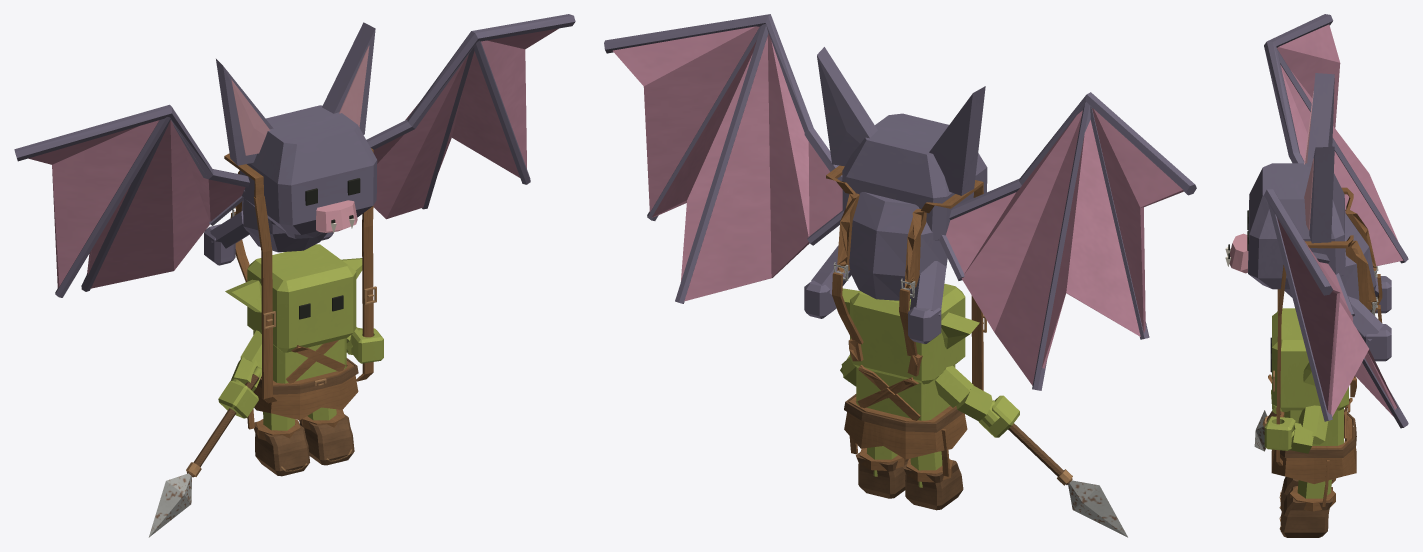
File: host_05.glb
3 views of the same model, side by side, from view 1: azimuth 30°, elevation 25°; view 2: azimuth 150°, elevation 25°; view 3: azimuth 270°, elevation 25° (orthographic). The views are drawn at different scales.
Visible parts, largest first — view 1: Bat — one native connected skull, jaw, neck, hind limbs and , Goblin — connected full head, body, two arms, compact palms , Goblin source ragged brown loincloth around hips, Goblin right single compact boot with joined broad collar, Carrier right actual leather suspension, Goblin left single compact boot with joined broad collar, Carrier left actual leather suspension, Goblin attached broad diamond spear point, Bat right pink inner ear, Bat left pink inner ear, Goblin source thin fitted brown waist belt, Goblin long brown downward spear shaft; view 2: Bat — one native connected skull, jaw, neck, hind limbs and , Goblin — connected full head, body, two arms, compact palms , Goblin source ragged brown loincloth around hips, Goblin right single compact boot with joined broad collar, Goblin left single compact boot with joined broad collar, Goblin attached broad diamond spear point, Goblin source thin fitted brown waist belt, Carrier right fitted dorsal leather continuation, Carrier left actual continuous rear scout attachment, Carrier right actual leather suspension, Carrier left fitted dorsal leather continuation, Carrier right actual continuous rear scout attachment (+1 smaller); view 3: Bat — one native connected skull, jaw, neck, hind limbs and , Goblin — connected full head, body, two arms, compact palms , Goblin source ragged brown loincloth around hips, Goblin left single compact boot with joined broad collar, Carrier left fitted dorsal leather continuation, Carrier left actual leather suspension, Goblin source thin fitted brown waist belt, Carrier right fitted dorsal leather continuation, Bat left pink inner ear, Carrier left source return above native wing root, Goblin attached broad diamond spear point, Goblin right single compact boot with joined broad collar.
Boxes of the visible parts, x1,y1,x2,y2 form: Bat — one native connected skull, jaw, neck, hind limbs and : (14, 14, 575, 297); Goblin — connected full head, body, two arms, compact palms : (218, 244, 383, 430); Goblin source ragged brown loincloth around hips: (253, 360, 358, 420); Goblin right single compact boot with joined broad collar: (254, 419, 309, 476); Carrier right actual leather suspension: (253, 196, 276, 403); Goblin left single compact boot with joined broad collar: (299, 409, 354, 465); Carrier left actual leather suspension: (355, 205, 373, 381); Goblin attached broad diamond spear point: (148, 473, 191, 537); Bat right pink inner ear: (231, 79, 270, 155); Bat left pink inner ear: (339, 45, 369, 127); Goblin source thin fitted brown waist belt: (258, 358, 358, 394); Goblin long brown downward spear shaft: (187, 374, 258, 477); Bat — one native connected skull, jaw, neck, hind limbs and : (604, 14, 1196, 390); Goblin — connected full head, body, two arms, compact palms : (840, 283, 1019, 487); Goblin source ragged brown loincloth around hips: (844, 396, 967, 459); Goblin right single compact boot with joined broad collar: (903, 458, 963, 510); Goblin left single compact boot with joined broad collar: (856, 448, 908, 498); Goblin attached broad diamond spear point: (1068, 480, 1127, 537); Goblin source thin fitted brown waist belt: (844, 394, 962, 432); Carrier right fitted dorsal leather continuation: (905, 209, 926, 288); Carrier left actual continuous rear scout attachment: (832, 272, 863, 361); Carrier right actual leather suspension: (971, 295, 983, 390); Carrier left fitted dorsal leather continuation: (837, 193, 859, 272); Carrier right actual continuous rear scout attachment: (899, 288, 922, 376); Bat — one native connected skull, jaw, neck, hind limbs and : (1229, 14, 1408, 428); Goblin — connected full head, body, two arms, compact palms : (1264, 308, 1348, 509); Goblin source ragged brown loincloth around hips: (1271, 412, 1356, 483); Goblin left single compact boot with joined broad collar: (1280, 486, 1335, 537); Carrier left fitted dorsal leather continuation: (1345, 240, 1376, 309); Carrier left actual leather suspension: (1276, 265, 1286, 465); Goblin source thin fitted brown waist belt: (1276, 409, 1356, 457); Carrier right fitted dorsal leather continuation: (1345, 210, 1376, 270); Bat left pink inner ear: (1304, 158, 1313, 230); Carrier left source return above native wing root: (1305, 235, 1353, 248); Goblin attached broad diamond spear point: (1254, 410, 1267, 451); Goblin right single compact boot with joined broad collar: (1280, 477, 1335, 511).
Size of the model in its own units: 3.2 by 2.32 by 0.9076.
22 materials, 21 textured.
